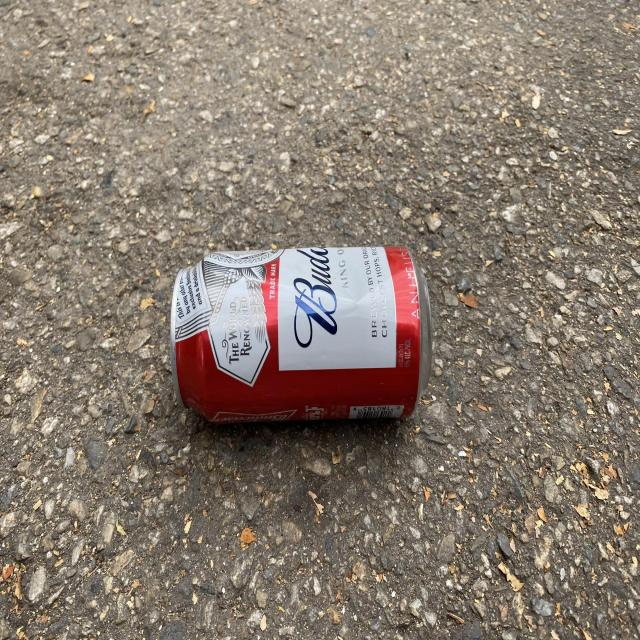can: (170, 246, 433, 423)
